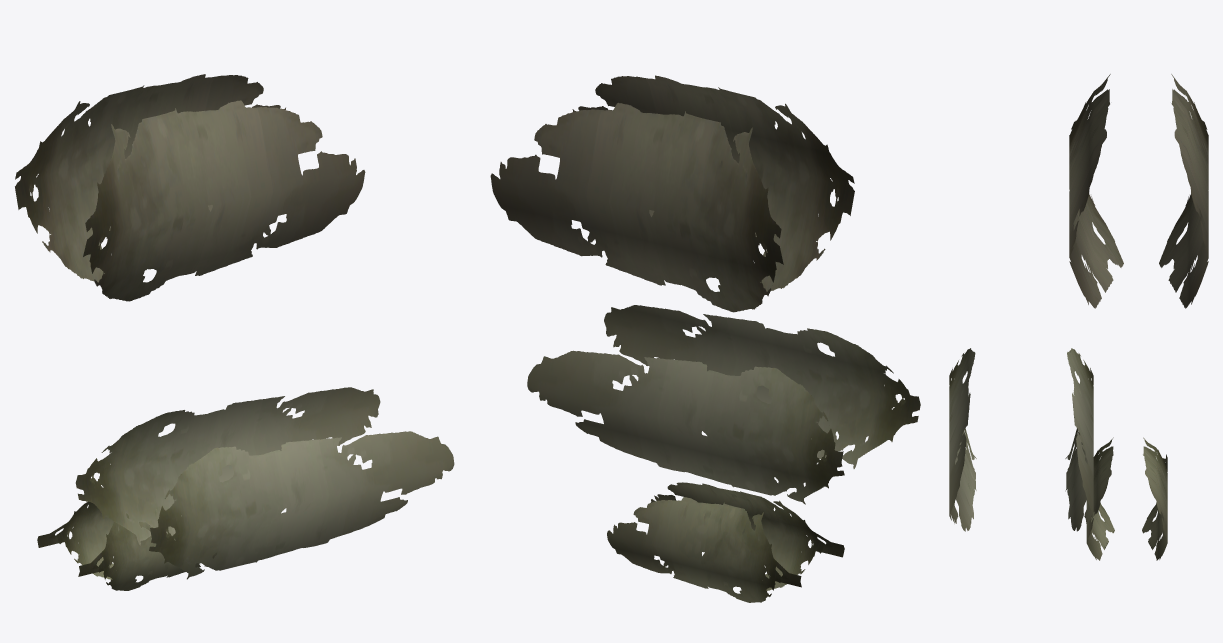
The model's file is props_coalmines_foliage_clump3.glb.
3 renders of one model, left to right at view 1: azimuth 30°, elevation 25°; view 2: azimuth 150°, elevation 25°; view 3: azimuth 270°, elevation 25°, orthographic. The views are drawn at different scales.
Parts seen in each view (by area): view 1: models/props_coalmines/foliage_clump3; view 2: models/props_coalmines/foliage_clump3; view 3: models/props_coalmines/foliage_clump3.
Part boxes in pixels (x1,y1,x2,y2): models/props_coalmines/foliage_clump3: [15, 74, 454, 590]; models/props_coalmines/foliage_clump3: [490, 75, 920, 602]; models/props_coalmines/foliage_clump3: [949, 74, 1208, 560].
Size of the model in its own units: 42.07 by 69.28 by 32.55.
1 material, 1 textured.
